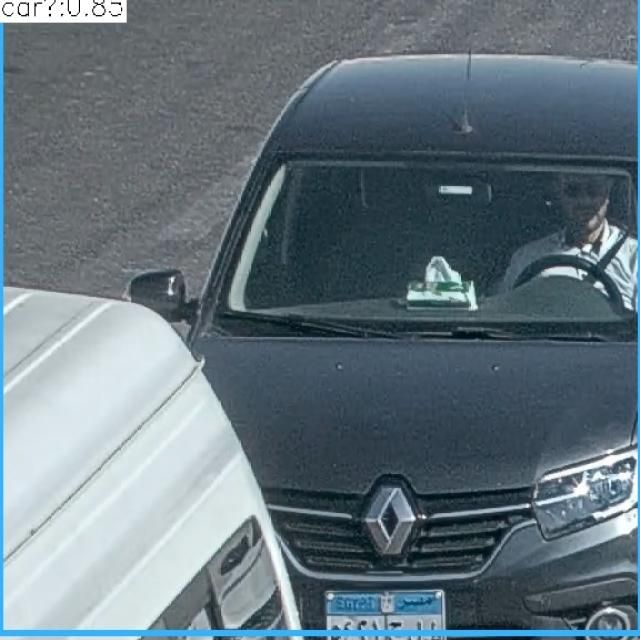windshield: (213, 158, 640, 337)
